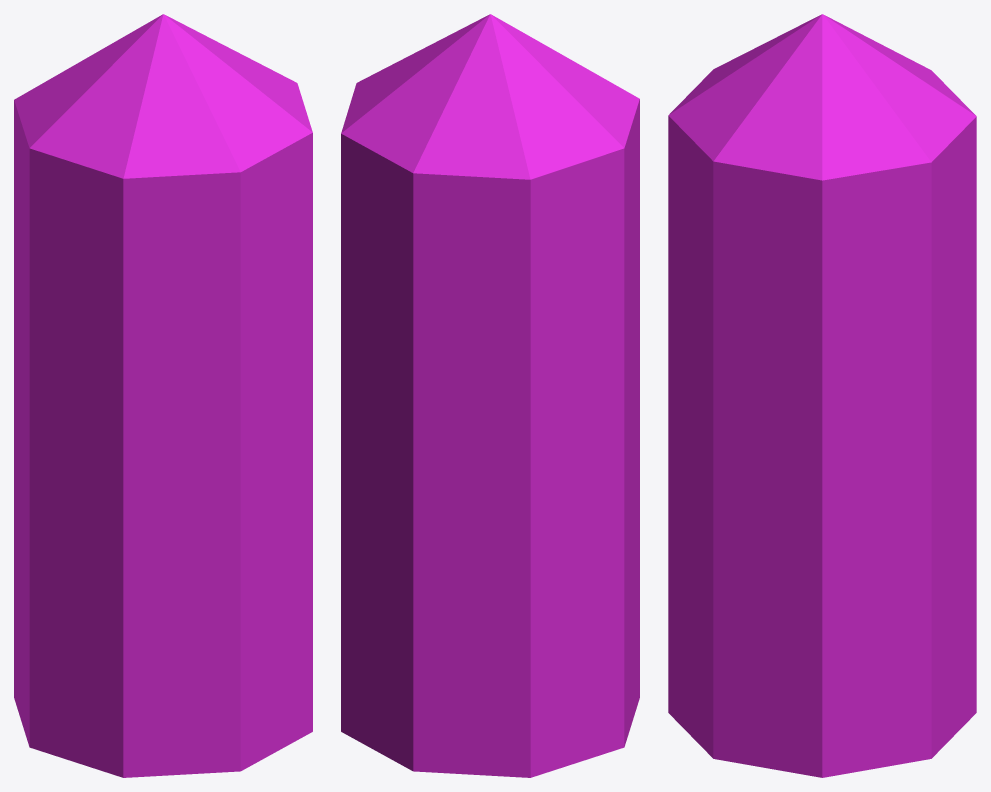
File: crystal_4.fbx
3 views of the same model, side by side, from view 1: azimuth 30°, elevation 25°; view 2: azimuth 150°, elevation 25°; view 3: azimuth 270°, elevation 25° (orthographic).
Parts seen in each view (by area): view 1: Cylinder; view 2: Cylinder; view 3: Cylinder.
Boxes of the visible parts, <box> form: Cylinder: <box>14,14,312,777</box>; Cylinder: <box>341,14,639,777</box>; Cylinder: <box>668,14,976,777</box>.
Size of the model in its own units: 200 by 500 by 200.
